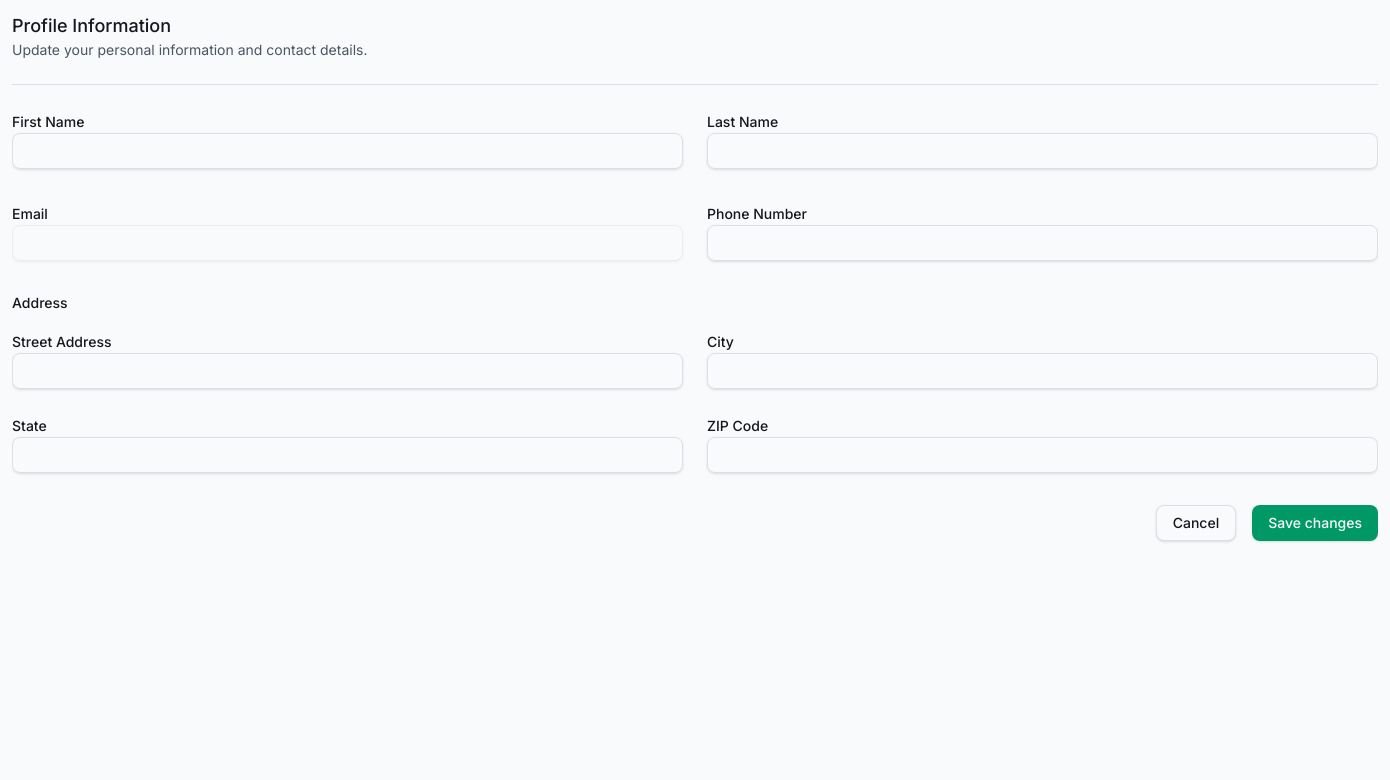
Test: DashboardProfile › shows validation error for short first name
This screenshot has width=1390, height=780.
Type "J" into the field labelled "First Name" at (348, 151), box x1=12 y1=133 x2=683 y2=169
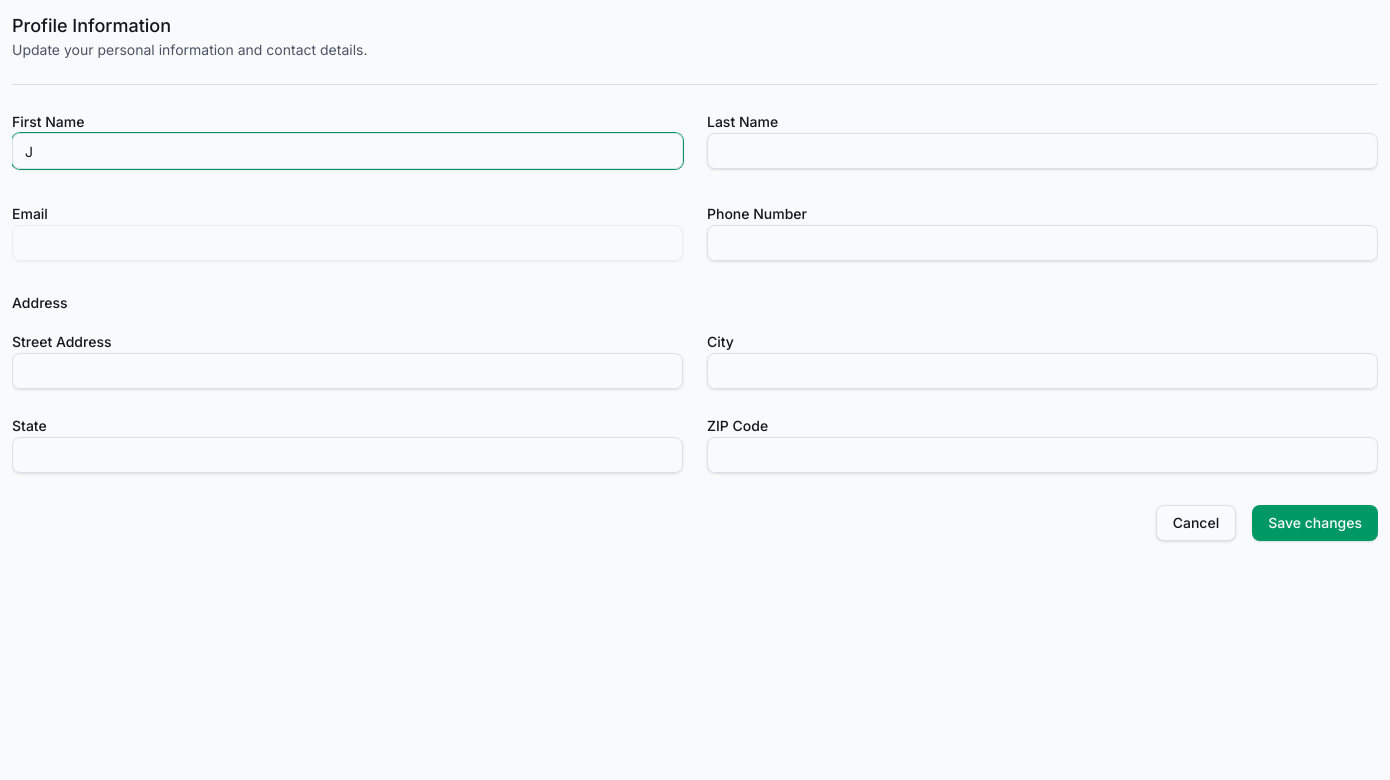
# Submit the form
Click the button "Save changes" at (1315, 523), box x1=1252 y1=505 x2=1378 y2=541
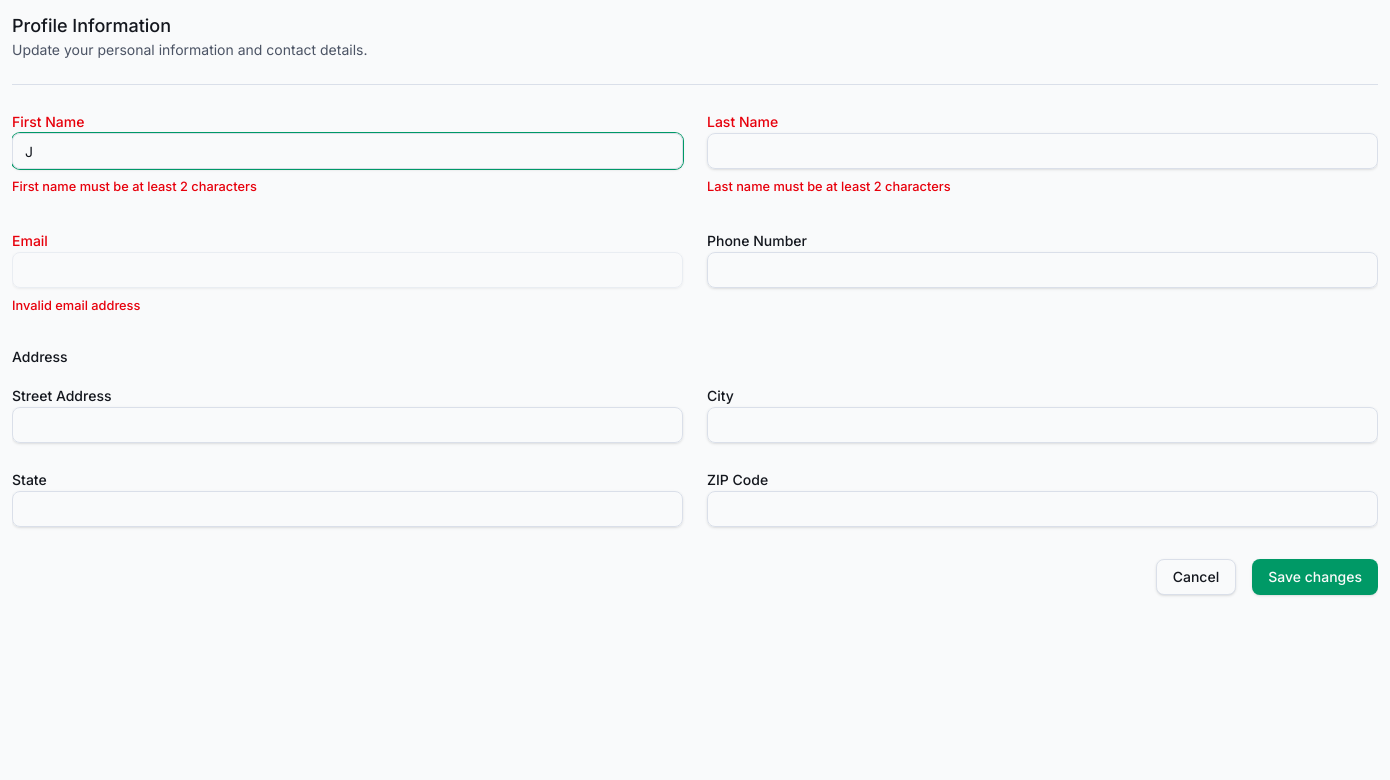
Expected: the text "First name must be at least 2 characters" is shown, x1=12 y1=179 x2=257 y2=194
